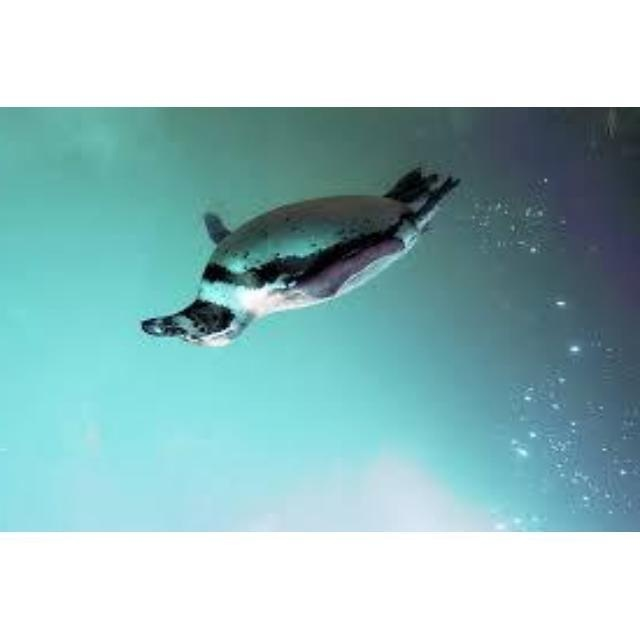penguin: (140, 165, 465, 348)
